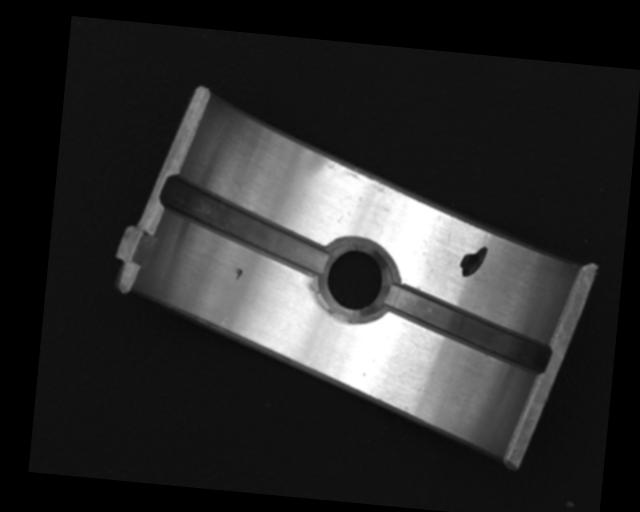blot: (458, 244, 489, 279)
bruise: (234, 266, 243, 281)
gap: (158, 176, 333, 277), (381, 285, 558, 376)
hole: (316, 238, 397, 326)
